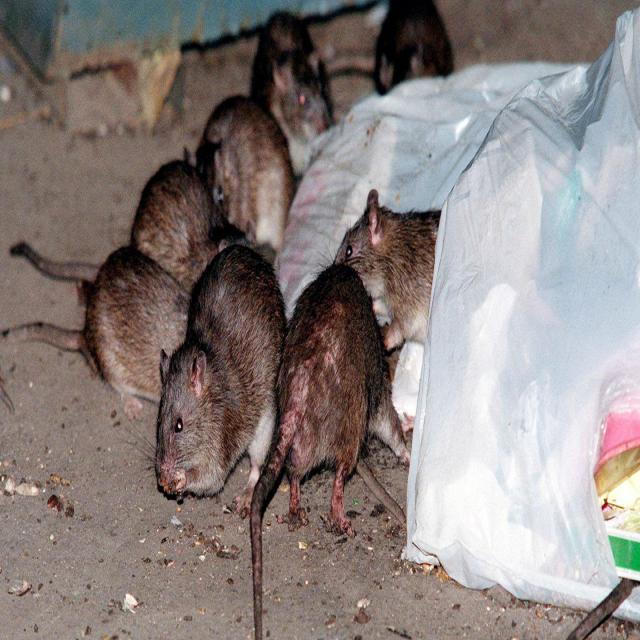rat: (250, 263, 409, 639), (155, 245, 286, 498), (2, 246, 190, 418), (334, 190, 440, 352), (195, 95, 296, 254), (130, 160, 247, 290), (250, 11, 334, 178), (329, 0, 454, 94)
